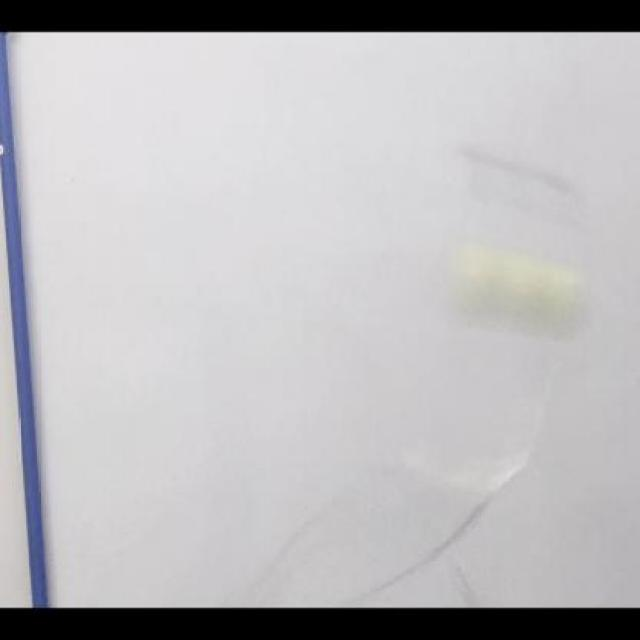baseball: (450, 237, 595, 341)
